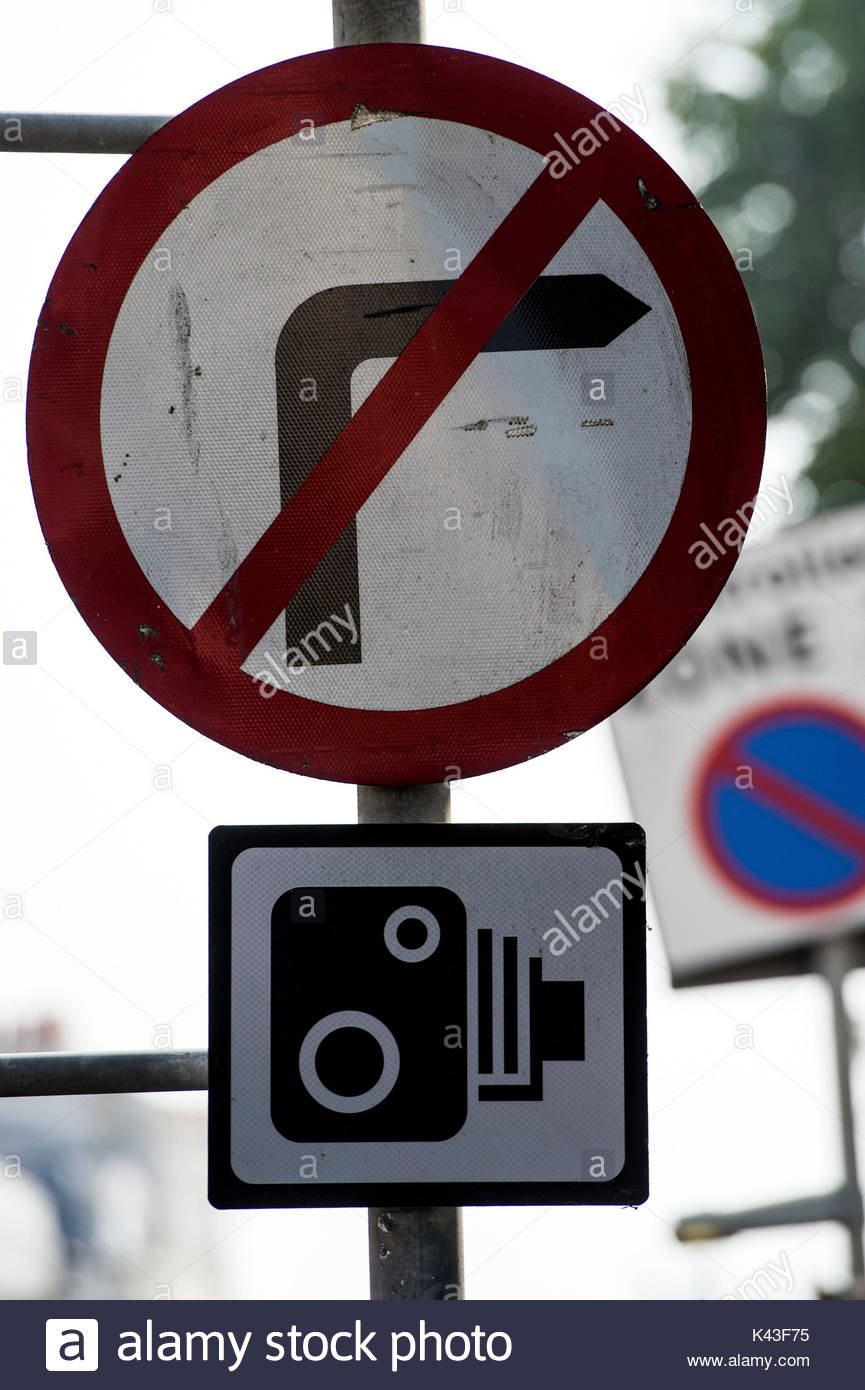No_right_turn: (24, 45, 768, 780)
